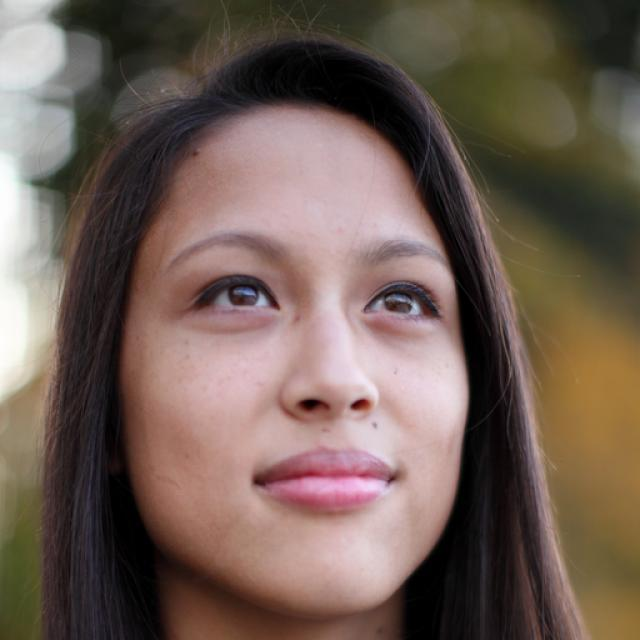neutral: (118, 100, 472, 614)
